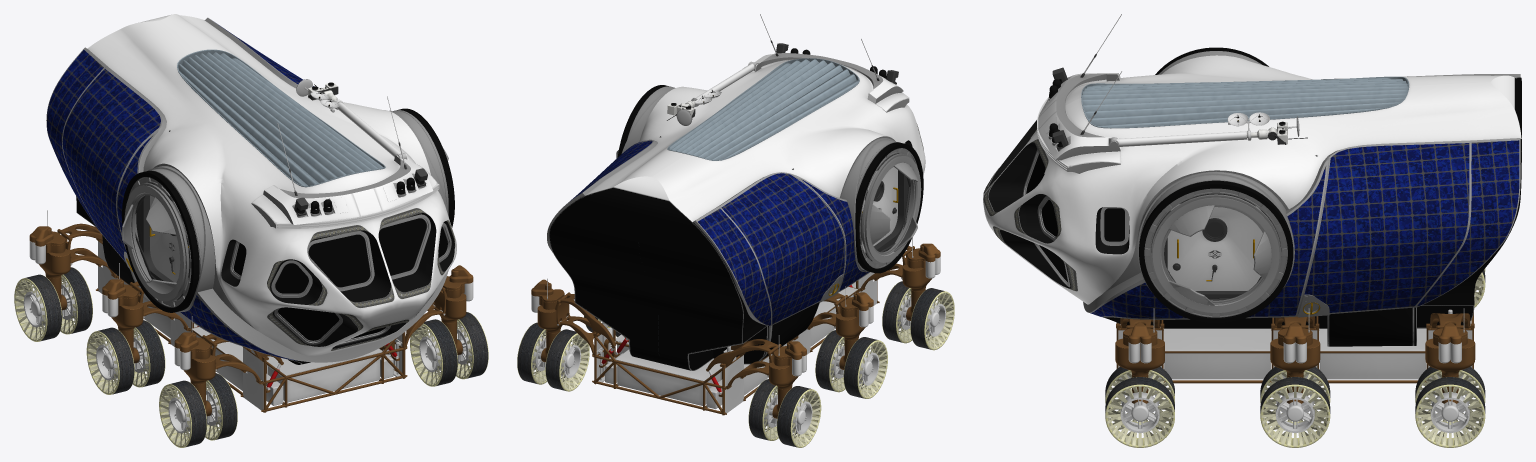
The model's file is MMSEV.obj.
3 renders of one model, left to right at view 1: azimuth 30°, elevation 25°; view 2: azimuth 150°, elevation 25°; view 3: azimuth 270°, elevation 25°, orthographic. The views are drawn at different scales.
Parts seen in each view (by area): view 1: Default, MMSEV2278_032MMSEV2279_032MMSEV2280_032MMSEV2301_032MMSEV2337_03, MMSEV2389_032MMSEV2390_032MMSEV2391_032MMSEV2392_032MMSEV2337_03, MMSEV2389_032MMSEV2390_032MMSEV2391_032MMSEV2392_032MMSEV2336_03, MMSEV2388_032MMSEV2389_032MMSEV2390_032MMSEV2391_032MMSEV2392_03, polySurface421, MMSEV2389_032MMSEV2390_032MMSEV2391_032MMSEV2392_032MMSEV2338_03, MMSEV2389_032MMSEV2390_032MMSEV2391_032MMSEV2392_032MMSEV2335_03, MMSEV2277_032MMSEV2278_032MMSEV2279_032MMSEV2280_032MMSEV2301_03; view 2: Default, MMSEV2278_032MMSEV2279_032MMSEV2280_032MMSEV2301_032MMSEV2337_03, MMSEV2389_032MMSEV2390_032MMSEV2391_032MMSEV2392_032MMSEV2337_03, MMSEV2389_032MMSEV2390_032MMSEV2391_032MMSEV2392_032MMSEV2338_03, MMSEV2388_032MMSEV2389_032MMSEV2390_032MMSEV2391_032MMSEV2392_03; view 3: Default, MMSEV2278_032MMSEV2279_032MMSEV2280_032MMSEV2301_032MMSEV2337_03, MMSEV2388_032MMSEV2389_032MMSEV2390_032MMSEV2391_032MMSEV2392_03, MMSEV2389_032MMSEV2390_032MMSEV2391_032MMSEV2392_032MMSEV2337_03, MMSEV2277_032MMSEV2278_032MMSEV2279_032MMSEV2280_032MMSEV2301_03, MMSEV2387_032MMSEV2388_032MMSEV2389_032MMSEV2390_032MMSEV2391_03.
Part boxes in pixels (left/top/right/bottom): Default: left=46, top=14, right=456, bottom=364; MMSEV2278_032MMSEV2279_032MMSEV2280_032MMSEV2301_032MMSEV2337_03: left=14, top=267, right=488, bottom=447; MMSEV2389_032MMSEV2390_032MMSEV2391_032MMSEV2392_032MMSEV2337_03: left=29, top=210, right=473, bottom=410; MMSEV2389_032MMSEV2390_032MMSEV2391_032MMSEV2392_032MMSEV2336_03: left=102, top=242, right=407, bottom=412; MMSEV2388_032MMSEV2389_032MMSEV2390_032MMSEV2391_032MMSEV2392_03: left=117, top=275, right=396, bottom=404; polySurface421: left=276, top=183, right=439, bottom=228; MMSEV2389_032MMSEV2390_032MMSEV2391_032MMSEV2392_032MMSEV2338_03: left=96, top=241, right=198, bottom=346; MMSEV2389_032MMSEV2390_032MMSEV2391_032MMSEV2392_032MMSEV2335_03: left=261, top=347, right=407, bottom=384; MMSEV2277_032MMSEV2278_032MMSEV2279_032MMSEV2280_032MMSEV2301_03: left=31, top=301, right=435, bottom=422; Default: left=547, top=14, right=925, bottom=370; MMSEV2278_032MMSEV2279_032MMSEV2280_032MMSEV2301_032MMSEV2337_03: left=517, top=281, right=954, bottom=447; MMSEV2389_032MMSEV2390_032MMSEV2391_032MMSEV2392_032MMSEV2337_03: left=531, top=237, right=940, bottom=411; MMSEV2389_032MMSEV2390_032MMSEV2391_032MMSEV2392_032MMSEV2338_03: left=592, top=328, right=812, bottom=415; MMSEV2388_032MMSEV2389_032MMSEV2390_032MMSEV2391_032MMSEV2392_03: left=593, top=287, right=859, bottom=407; Default: left=983, top=14, right=1521, bottom=346; MMSEV2278_032MMSEV2279_032MMSEV2280_032MMSEV2301_032MMSEV2337_03: left=1105, top=268, right=1485, bottom=447; MMSEV2388_032MMSEV2389_032MMSEV2390_032MMSEV2391_032MMSEV2392_03: left=1116, top=316, right=1474, bottom=383; MMSEV2389_032MMSEV2390_032MMSEV2391_032MMSEV2392_032MMSEV2337_03: left=1115, top=308, right=1475, bottom=382; MMSEV2277_032MMSEV2278_032MMSEV2279_032MMSEV2280_032MMSEV2301_03: left=1131, top=405, right=1458, bottom=421; MMSEV2387_032MMSEV2388_032MMSEV2389_032MMSEV2390_032MMSEV2391_03: left=1165, top=351, right=1425, bottom=353.
Bounding box in the file's own units: 4.04 × 3.97 × 5.91.
